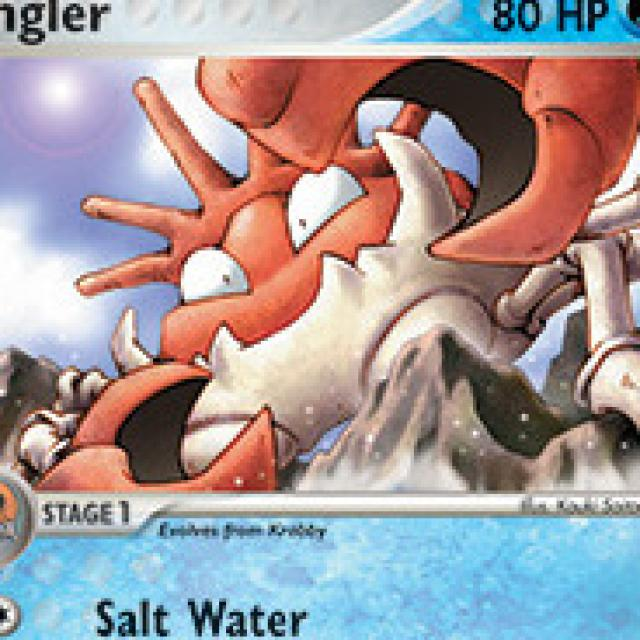Kingler: (97, 89, 640, 492)
